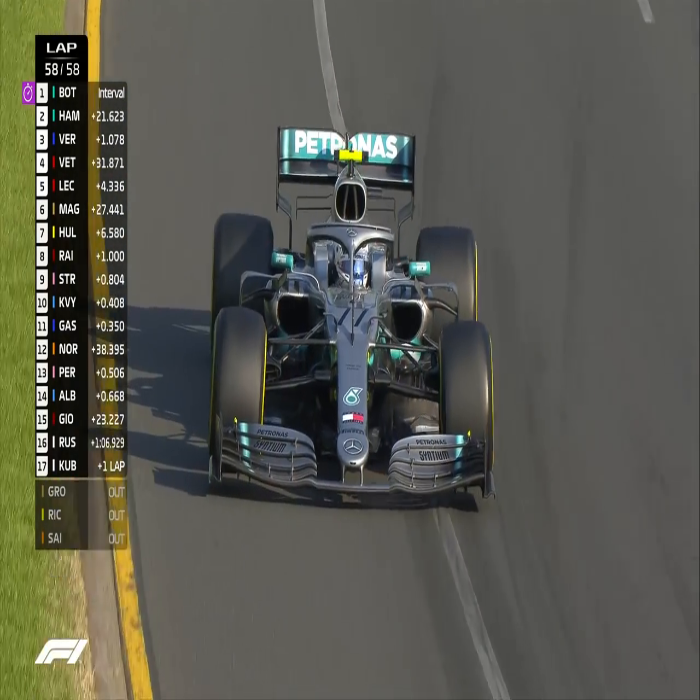f1_car: (190, 108, 530, 540)
